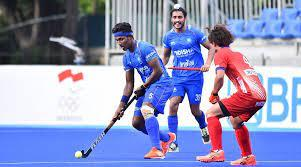ball: (74, 148, 88, 161)
